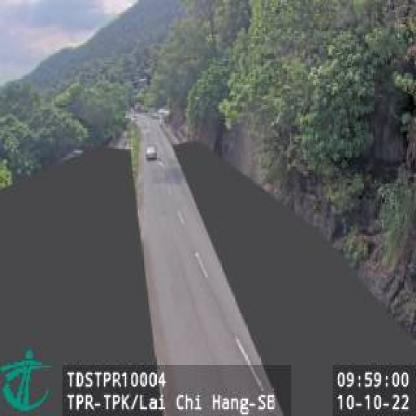Car: (147, 144, 157, 160)
